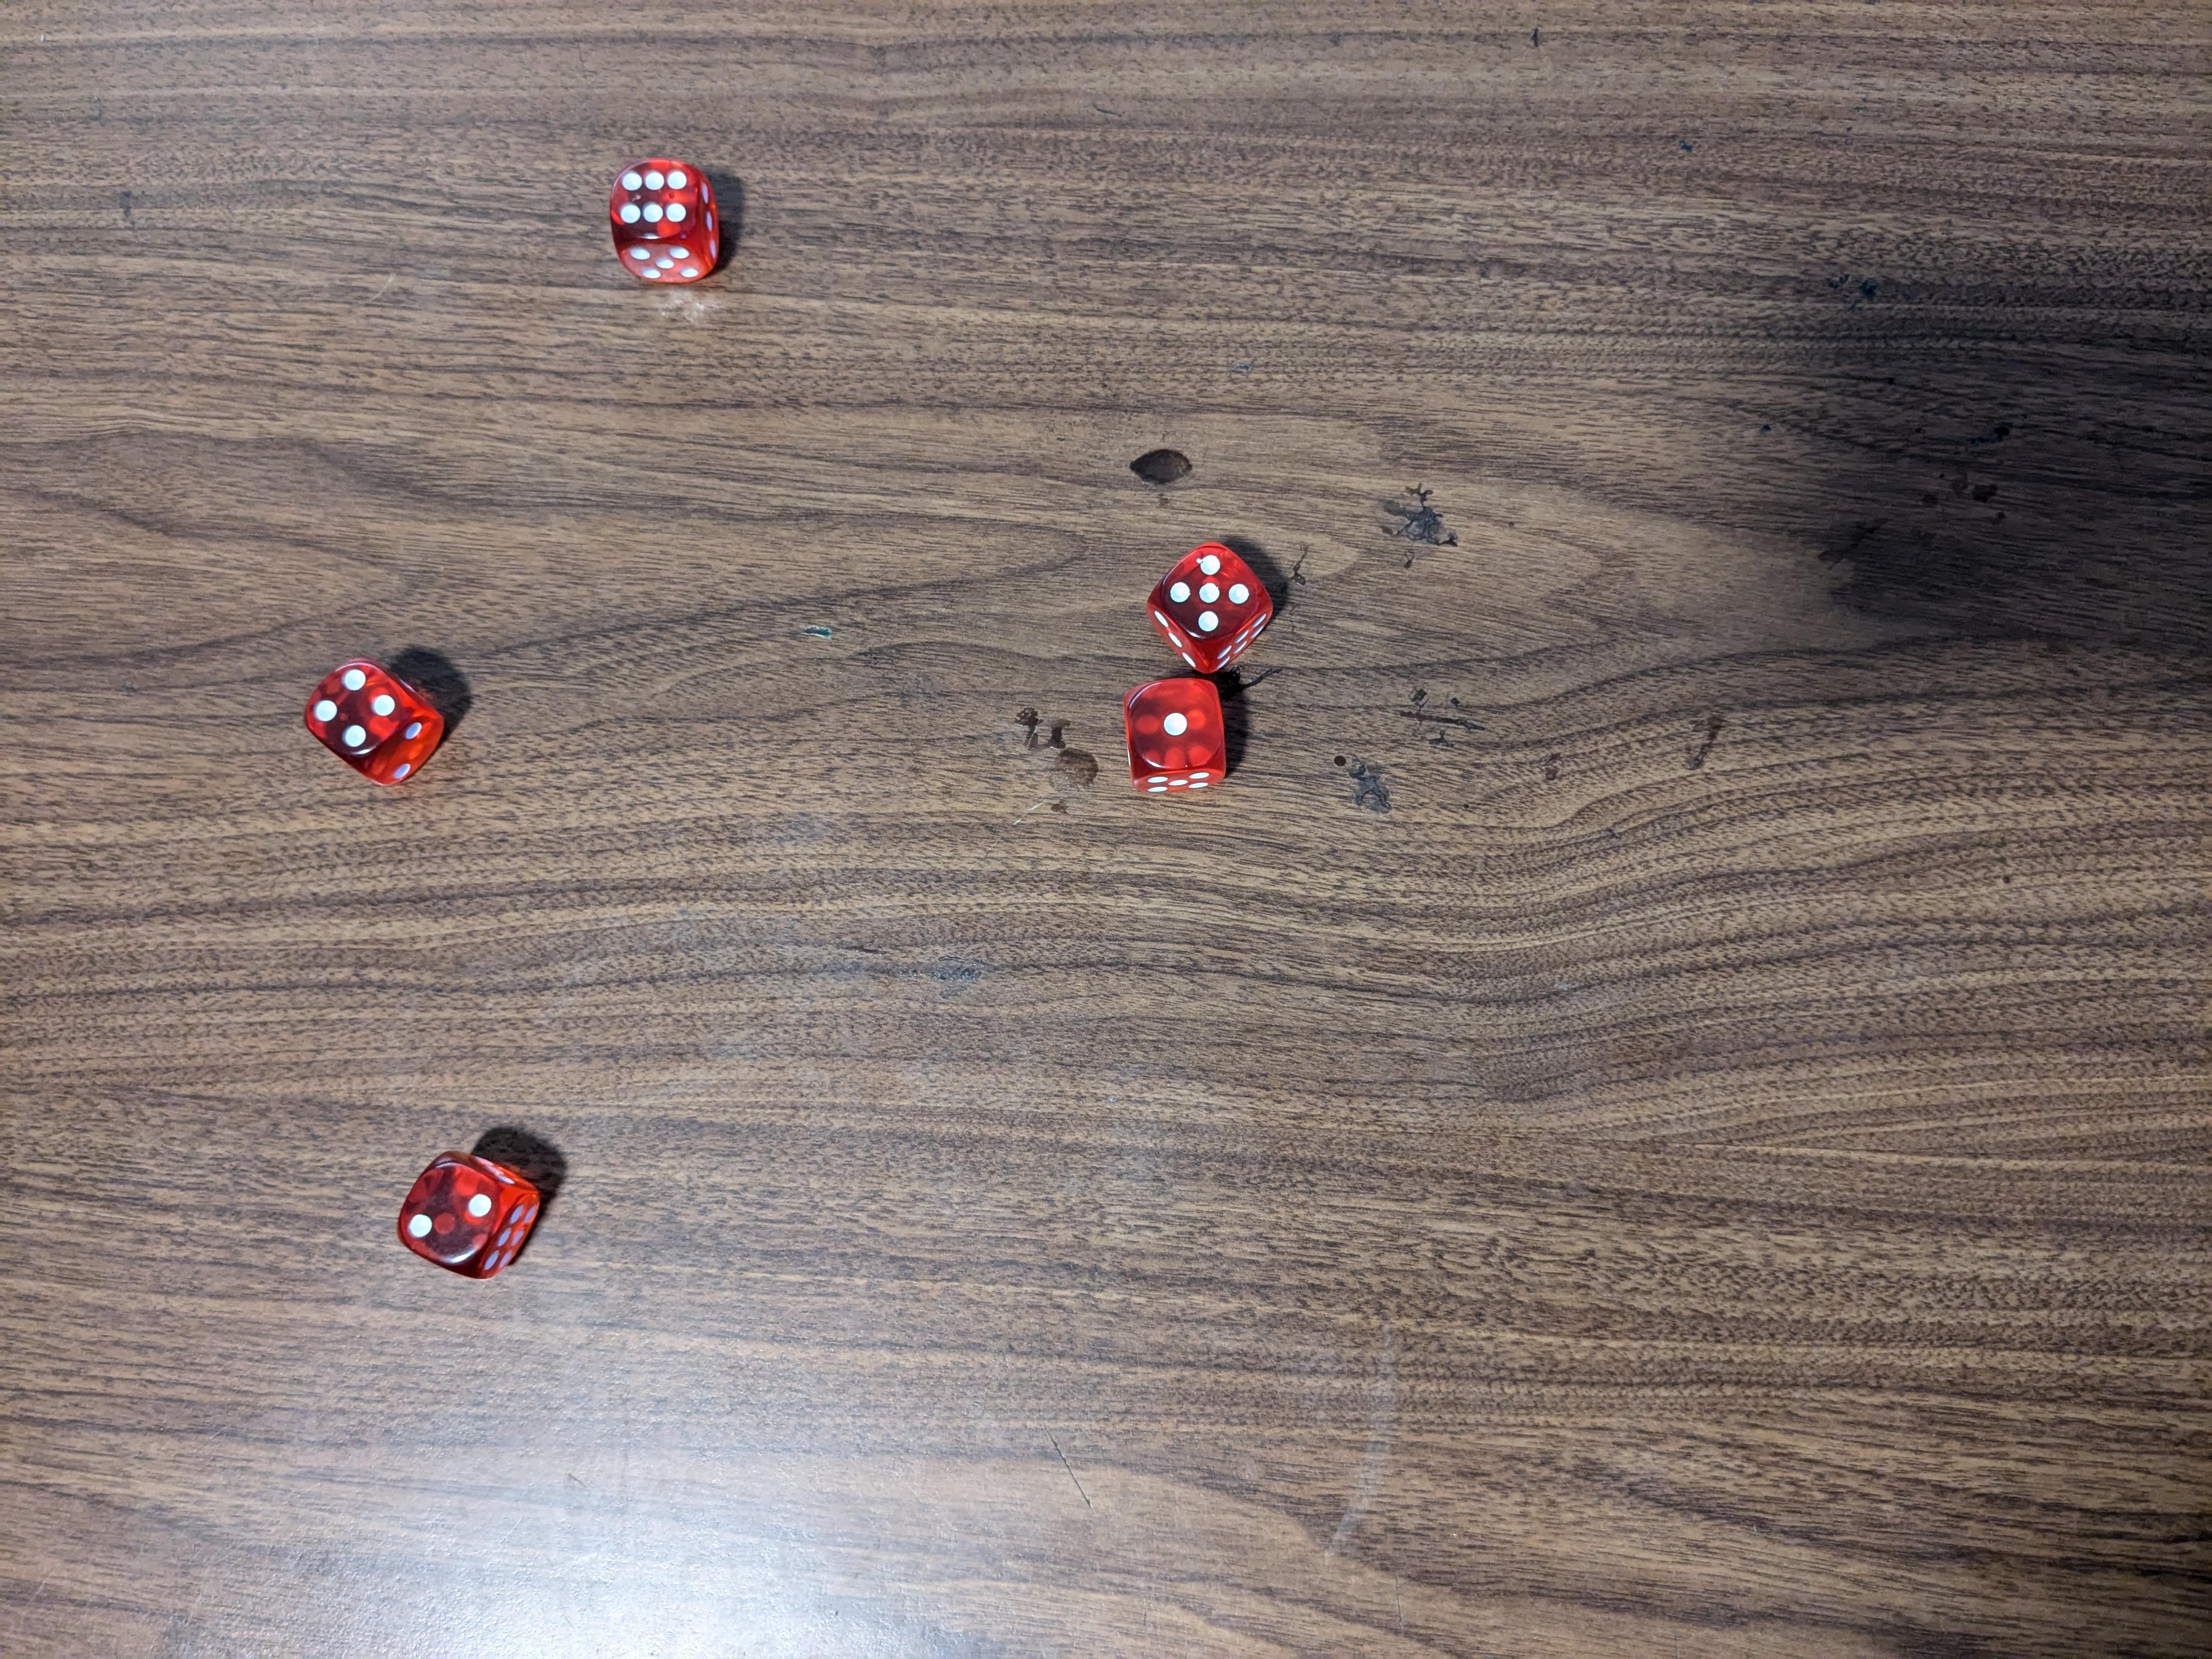five: (1151, 533, 1284, 674)
four: (298, 652, 449, 793)
one: (1116, 676, 1233, 796)
six: (613, 153, 730, 291)
two: (397, 1141, 543, 1276)
